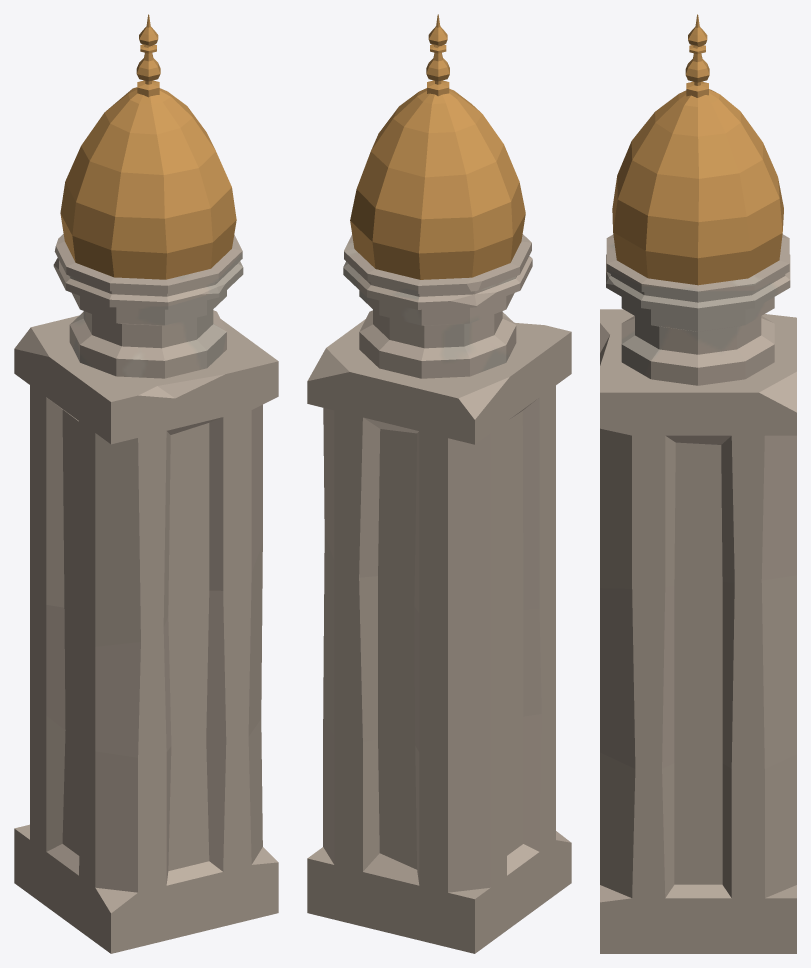
Rendered from SM_Bld_Pillar_01.glb.
3 views of the same model, side by side, from view 1: azimuth 30°, elevation 25°; view 2: azimuth 150°, elevation 25°; view 3: azimuth 270°, elevation 25° (orthographic).
Parts seen in each view (by area): view 1: SM_Bld_Pillar_01; view 2: SM_Bld_Pillar_01; view 3: SM_Bld_Pillar_01.
Boxes of the visible parts, x1,y1,x2,y2 form: SM_Bld_Pillar_01: (14, 14, 278, 953); SM_Bld_Pillar_01: (307, 14, 571, 953); SM_Bld_Pillar_01: (600, 14, 796, 953).
Size of the model in its own units: 1.76 by 8.87 by 1.76.
1 material, 1 textured.
